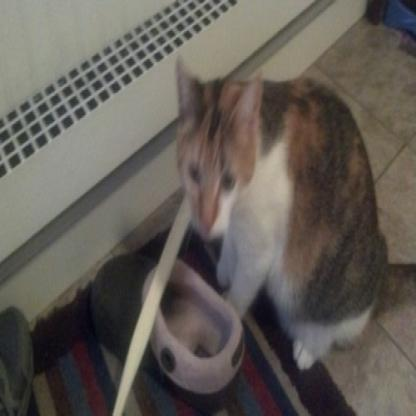Target: (169, 53, 416, 366)
